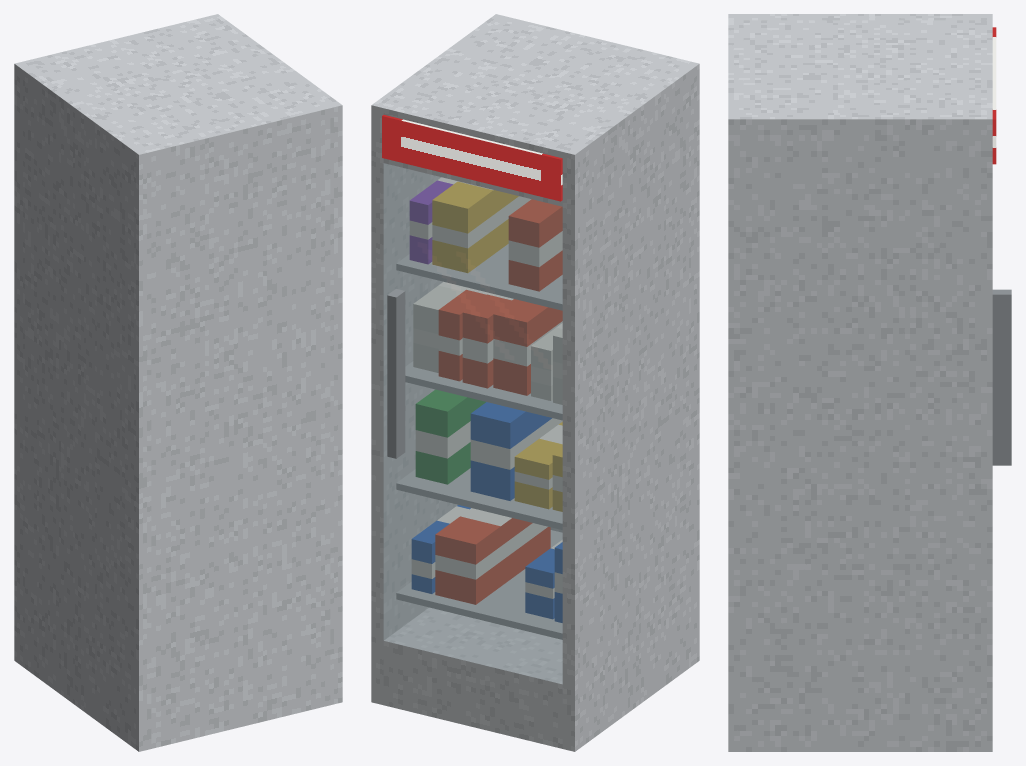
Rendered from f_glass_fridge.glb.
3 renders of one model, left to right at view 1: azimuth 30°, elevation 25°; view 2: azimuth 150°, elevation 25°; view 3: azimuth 270°, elevation 25°, orthographic. The views are drawn at different scales.
Visible parts, largest first — view 1: block_back, block_l, block_canopy, block_r; view 2: block_l, block_door, block_canopy, block_r, block_base, block_sign, block_drinks00.056, block_drinks30.083, block_drinks1-0.047, block_drinks10.160, block_drinks3-0.151, block_drinks2-0.103 (+17 smaller); view 3: block_r, block_canopy, block_handle, block_l, block_back, block_sign.
Boxes of the visible parts, x1,y1,x2,y2 form: block_back: (144, 103, 330, 748); block_l: (14, 60, 151, 751); block_canopy: (27, 17, 322, 146); block_r: (206, 14, 342, 705); block_l: (562, 60, 699, 751); block_door: (383, 163, 562, 683); block_canopy: (383, 22, 679, 206); block_r: (371, 14, 507, 705); block_base: (383, 607, 562, 748); block_sign: (382, 115, 562, 201); block_drinks00.056: (435, 508, 550, 604); block_drinks30.083: (432, 181, 530, 272); block_drinks1-0.047: (470, 402, 562, 500); block_drinks10.160: (415, 389, 485, 484); block_drinks3-0.151: (508, 199, 562, 291); block_drinks2-0.103: (493, 299, 562, 395); block_r: (728, 113, 992, 751); block_canopy: (743, 20, 992, 112); block_handle: (992, 289, 1011, 465); block_l: (728, 14, 992, 20); block_back: (728, 20, 743, 112); block_sign: (992, 27, 996, 164).
Size of the model in its own units: 0.66 by 1.85 by 0.75.
Materials: 4 (4 with a texture image).
